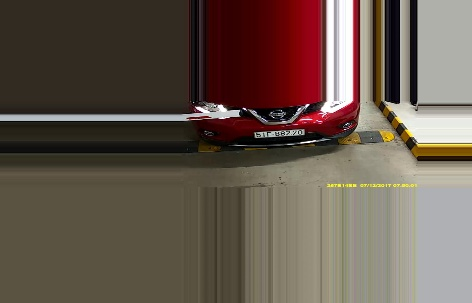plate: (255, 127, 306, 139)
